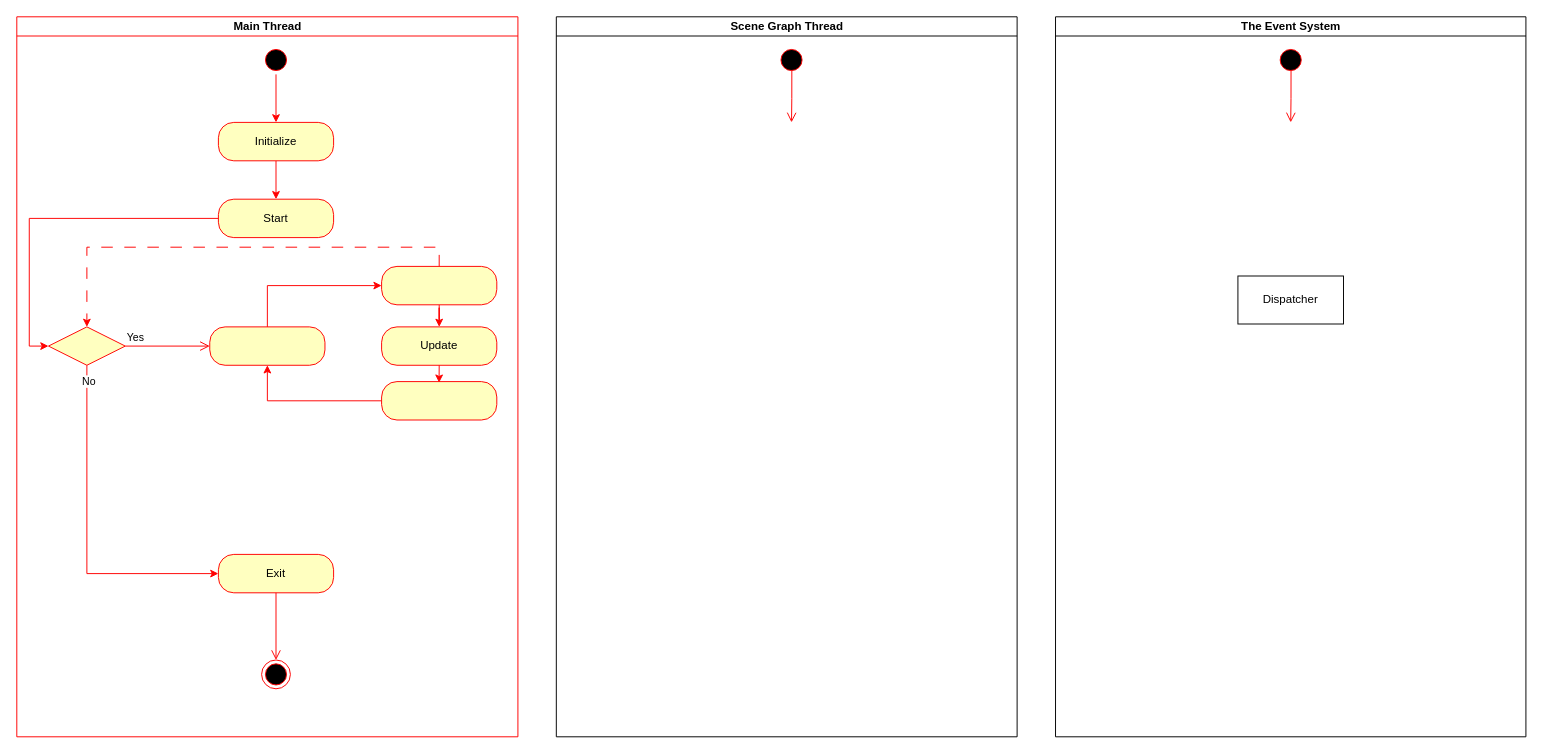
Some shapes in this 1543 by 754 pixel diagram are drawn without their labels. The shapes that lost their labels are listed below. From the top down, each one's centre as x and y in pixels, then its label:
At point (439, 285): "Event Handle".
At point (86, 345): "running".
At point (267, 345): "Loop".
At point (439, 400): "Render".
